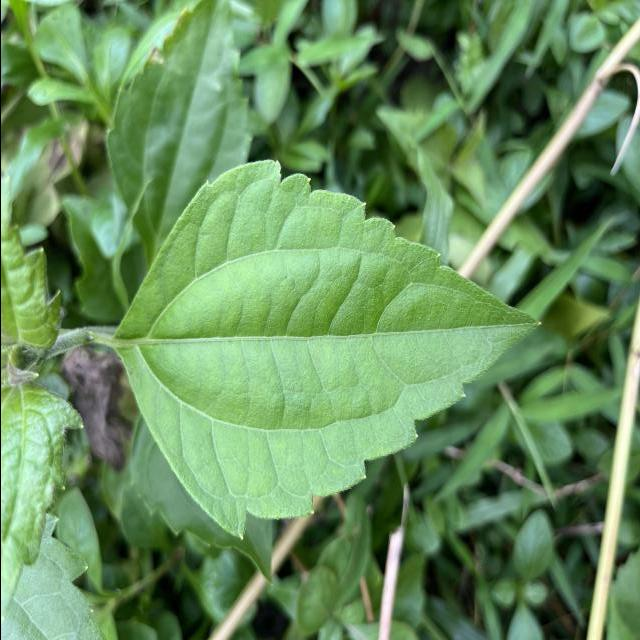Chromolaena odorata: (105, 152, 544, 544)
